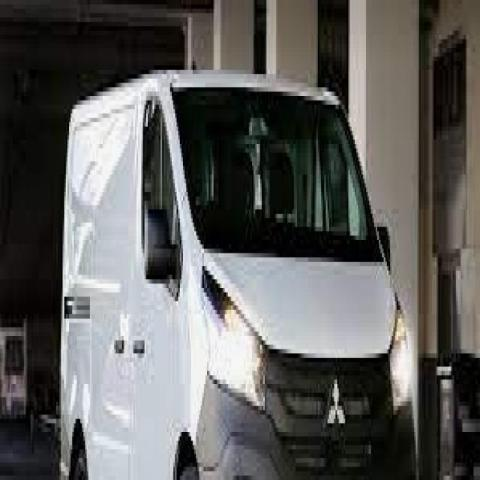van: (58, 65, 422, 480)
